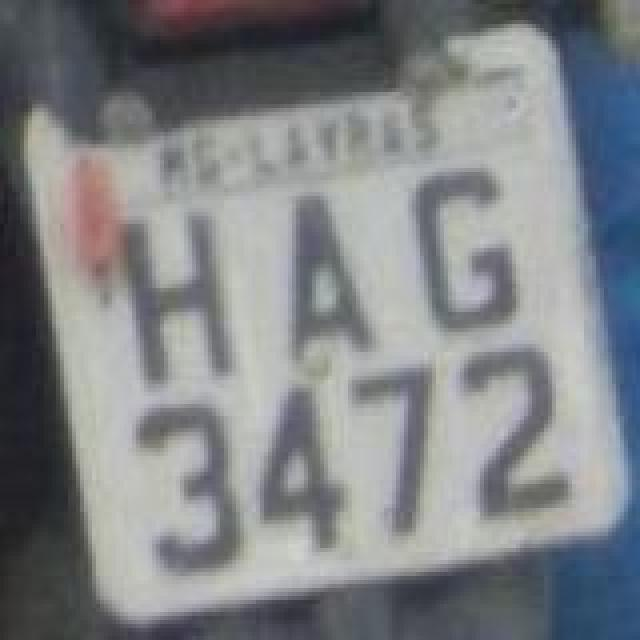2: (456, 342, 568, 522)
3: (132, 398, 244, 578)
4: (256, 386, 352, 558)
7: (348, 358, 436, 538)
A: (284, 192, 372, 368)
G: (406, 166, 522, 338)
H: (120, 210, 232, 382)
